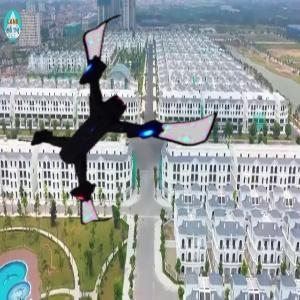drone: (18, 25, 199, 206)
